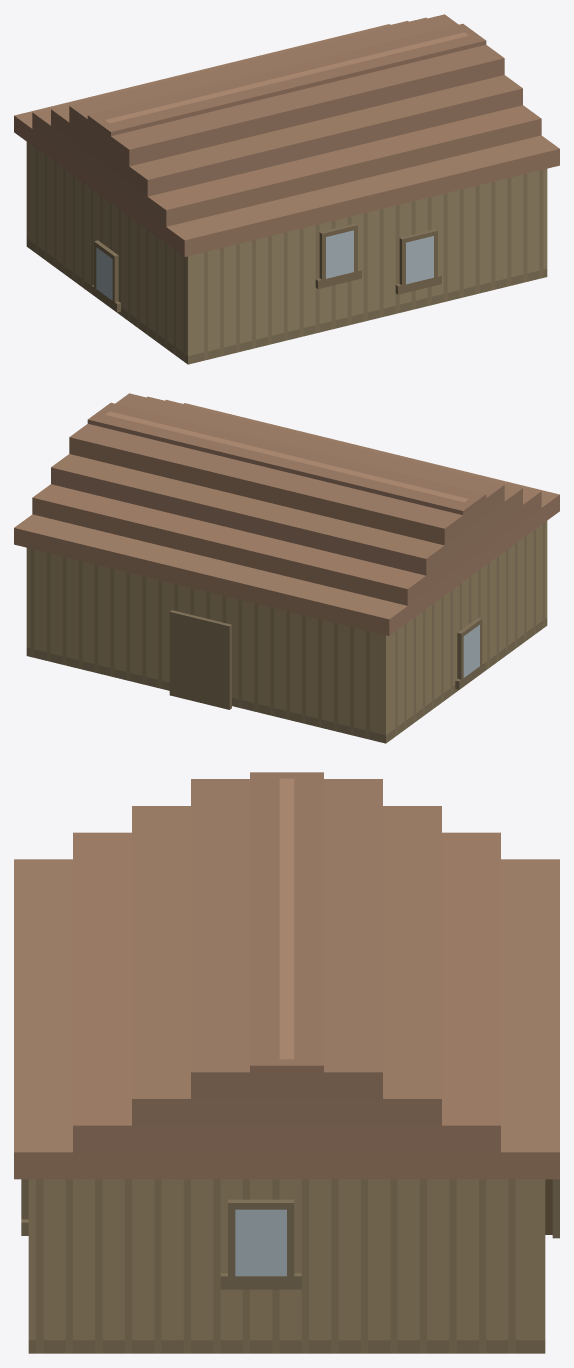
Rendered from carniceria_01.glb.
3 renders of one model, top to bottom at view 1: azimuth 30°, elevation 25°; view 2: azimuth 150°, elevation 25°; view 3: azimuth 270°, elevation 25°, orthographic. The views are drawn at different scales.
Visible parts, largest first — view 1: carniceria_01; view 2: carniceria_01; view 3: carniceria_01.
Part boxes in pixels (x1=…): carniceria_01: x1=14, y1=14, x2=559, y2=364; carniceria_01: x1=14, y1=393, x2=559, y2=743; carniceria_01: x1=14, y1=772, x2=559, y2=1353.
Size of the model in its own units: 9.4 by 4.4 by 7.4.
